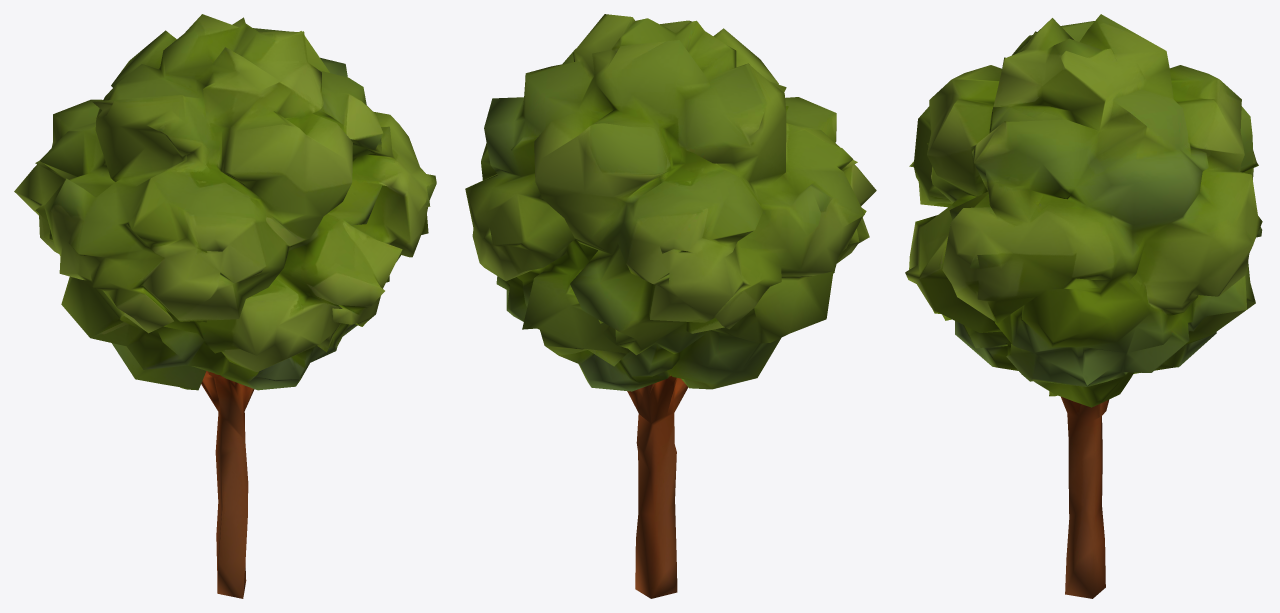
Rendered from tree.glb.
3 renders of one model, left to right at view 1: azimuth 30°, elevation 25°; view 2: azimuth 150°, elevation 25°; view 3: azimuth 270°, elevation 25°, orthographic.
Parts seen in each view (by area): view 1: tripo_node_74f1f2fc-3f72-4321-a693-cb2333a28dee; view 2: tripo_node_74f1f2fc-3f72-4321-a693-cb2333a28dee; view 3: tripo_node_74f1f2fc-3f72-4321-a693-cb2333a28dee.
Boxes of the visible parts, x1,y1,x2,y2 form: tripo_node_74f1f2fc-3f72-4321-a693-cb2333a28dee: [14, 14, 436, 598]; tripo_node_74f1f2fc-3f72-4321-a693-cb2333a28dee: [465, 14, 876, 598]; tripo_node_74f1f2fc-3f72-4321-a693-cb2333a28dee: [905, 14, 1262, 598].
Bounding box in the file's own units: 0.646 × 0.9806 × 0.5675.
Materials: 1 (1 with a texture image).
